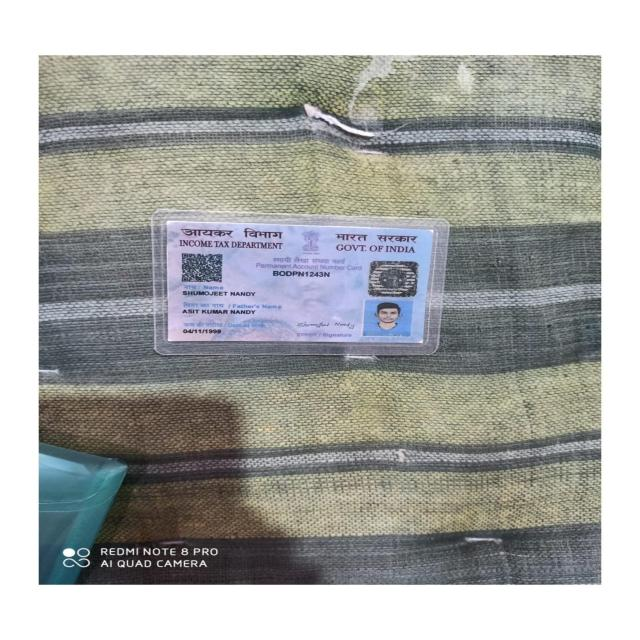pan_card: (165, 223, 435, 347)
